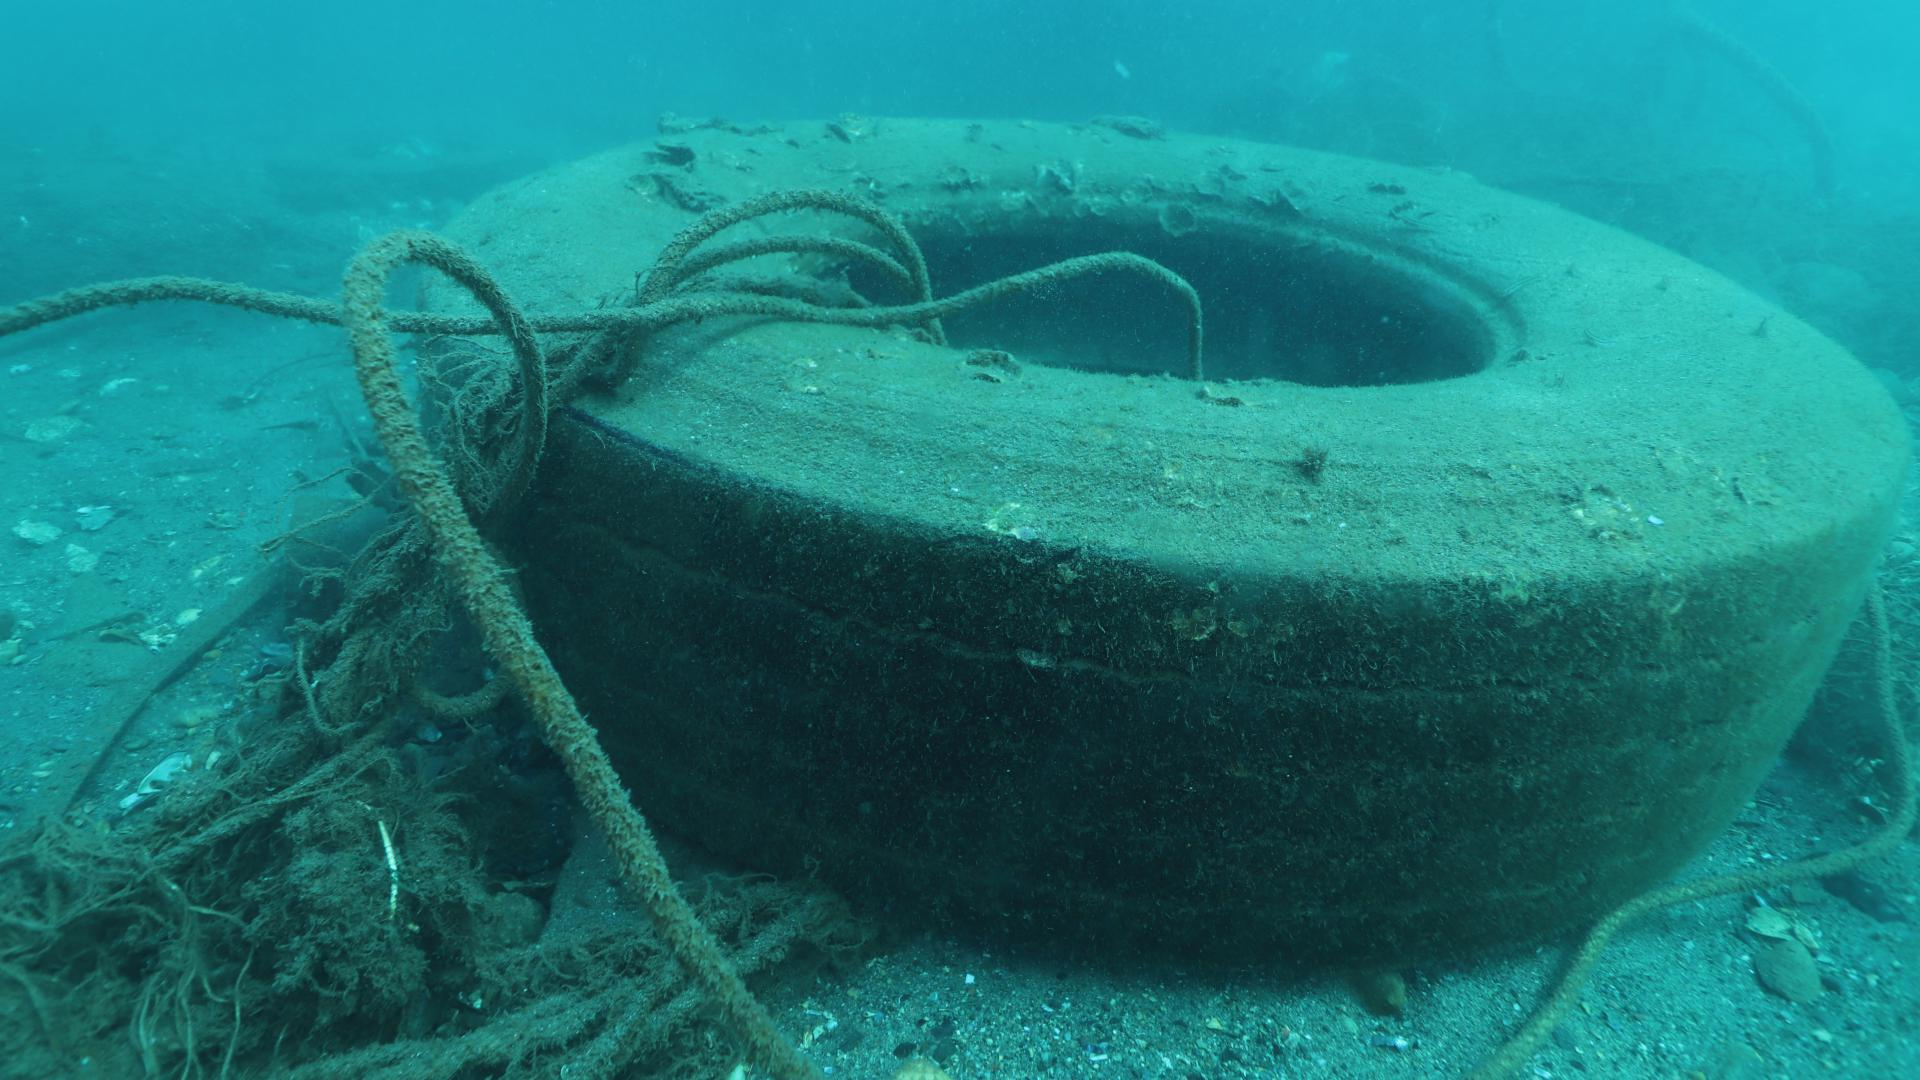bundle of ropes: (0, 178, 1208, 1080)
rope: (1465, 560, 1919, 1080)
tire: (415, 112, 1909, 981)
